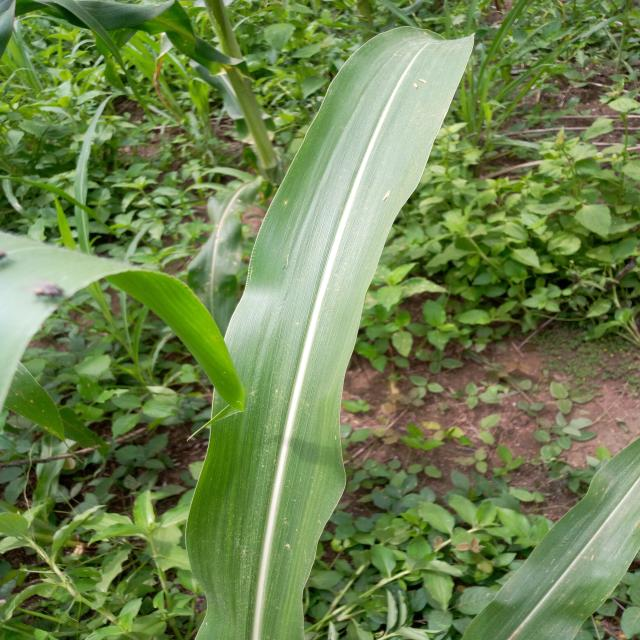healthy-maize: (239, 330, 334, 495), (326, 78, 405, 218)
